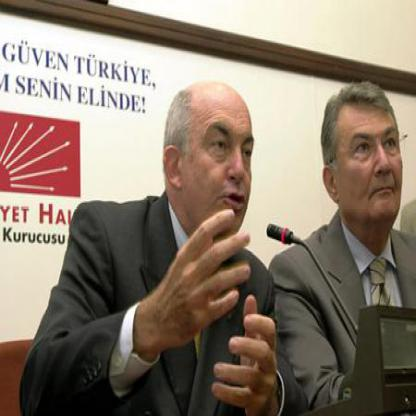face: (181, 85, 260, 243), (332, 86, 410, 230)
